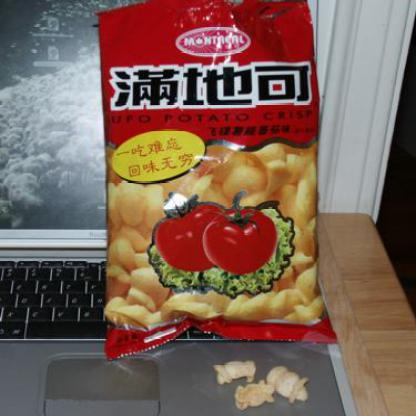potatochip: (88, 0, 347, 368)
